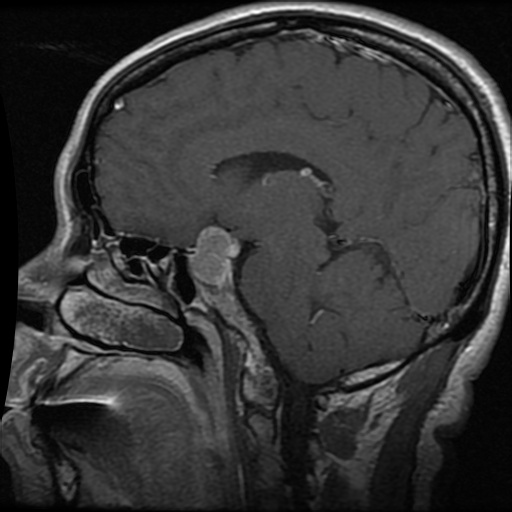pituitary: (189, 225, 240, 287)
